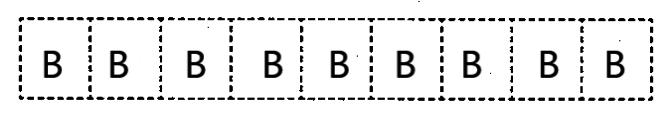B: (102, 45, 134, 83), (258, 44, 290, 82), (180, 46, 211, 84), (458, 46, 488, 84), (391, 44, 420, 82), (533, 46, 561, 84), (325, 45, 353, 82), (39, 45, 65, 83)
